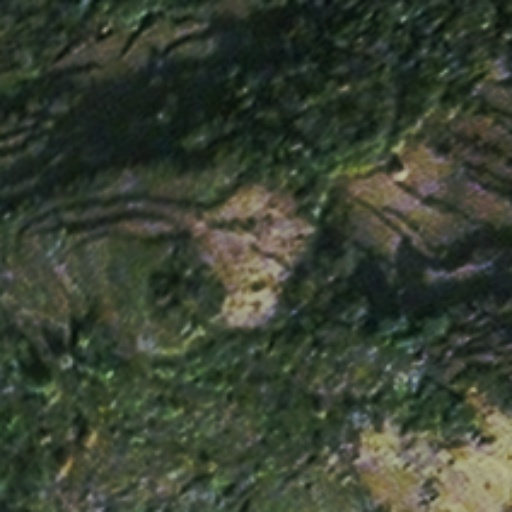landslide: (192, 181, 316, 328), (352, 408, 512, 512)
